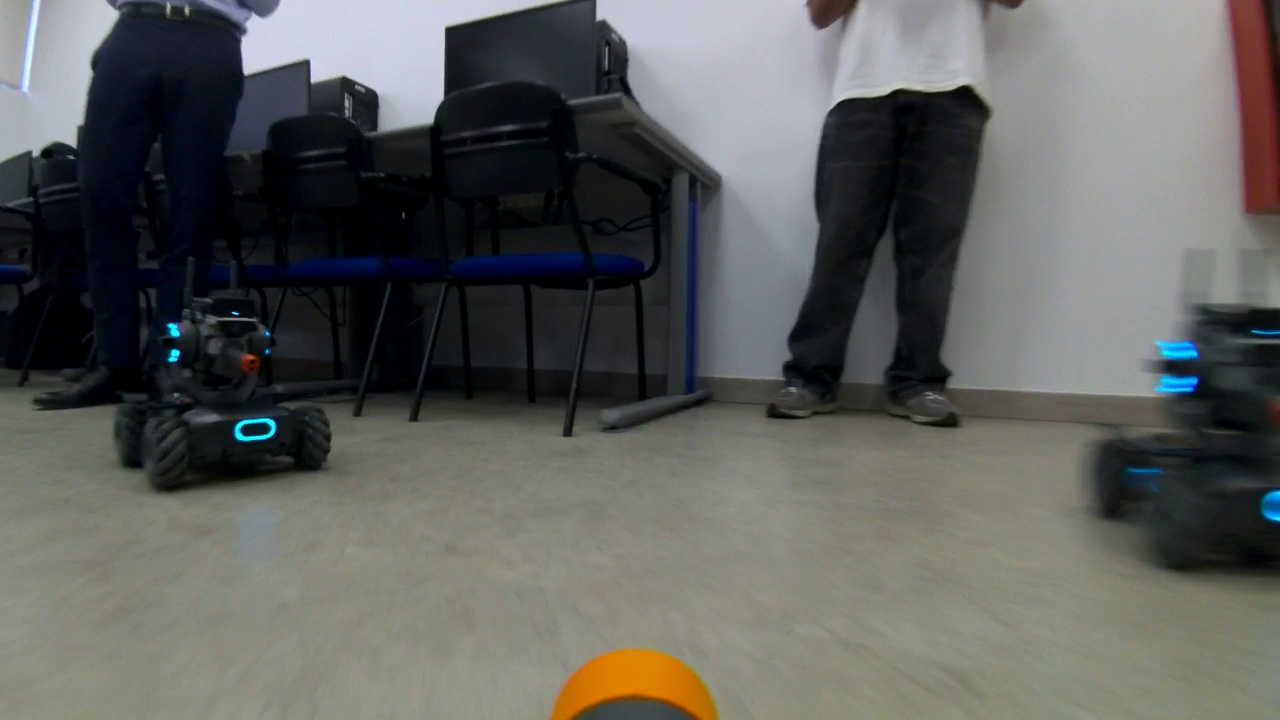robot: (1066, 242, 1280, 578), (96, 288, 352, 490)
